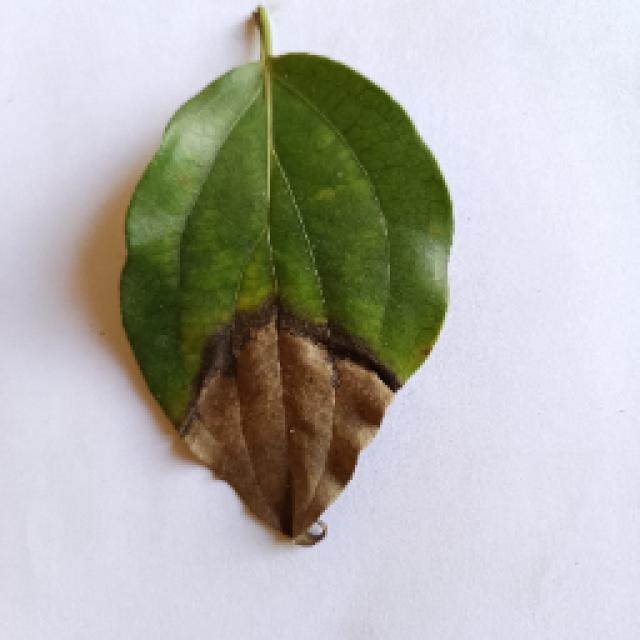footrot: (108, 12, 460, 540)
